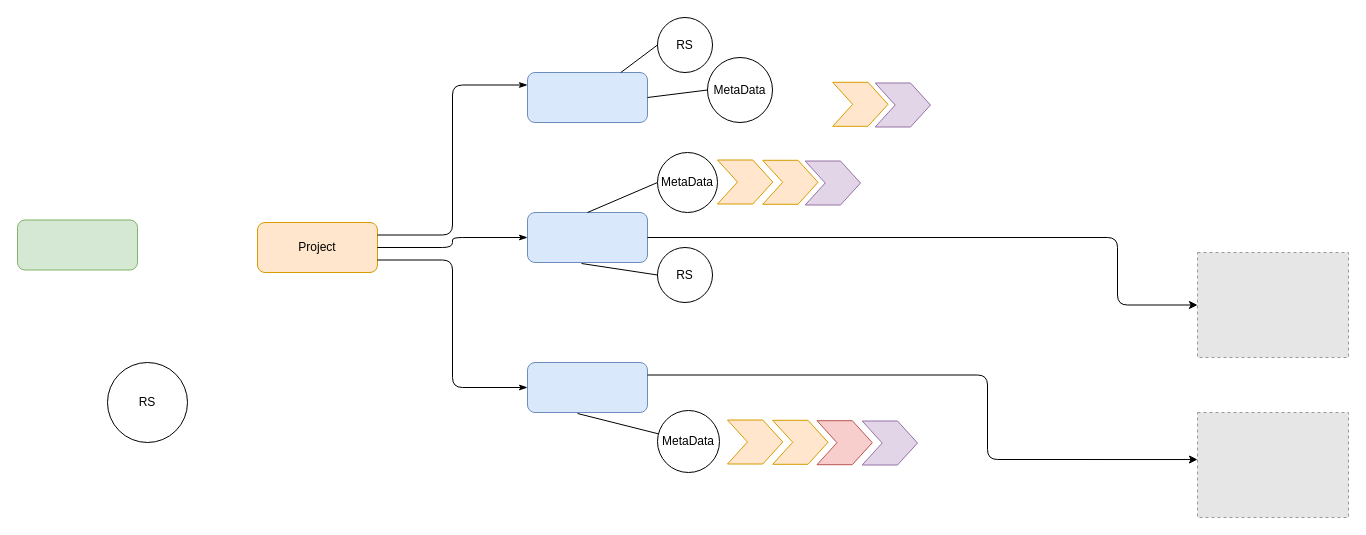
Image size: 1366x535. Some labels were removed from this diagram. Grey dashed boxes stand in for pictures. The shapes that lost their labels are listed below. From the top down, each one's box as (x1, y1, x2, y2) in pixels, then its label:
(526, 72, 648, 122): Dealroom
(16, 219, 138, 270): Tenant
(526, 212, 648, 262): Contract
(526, 362, 648, 412): Matter
